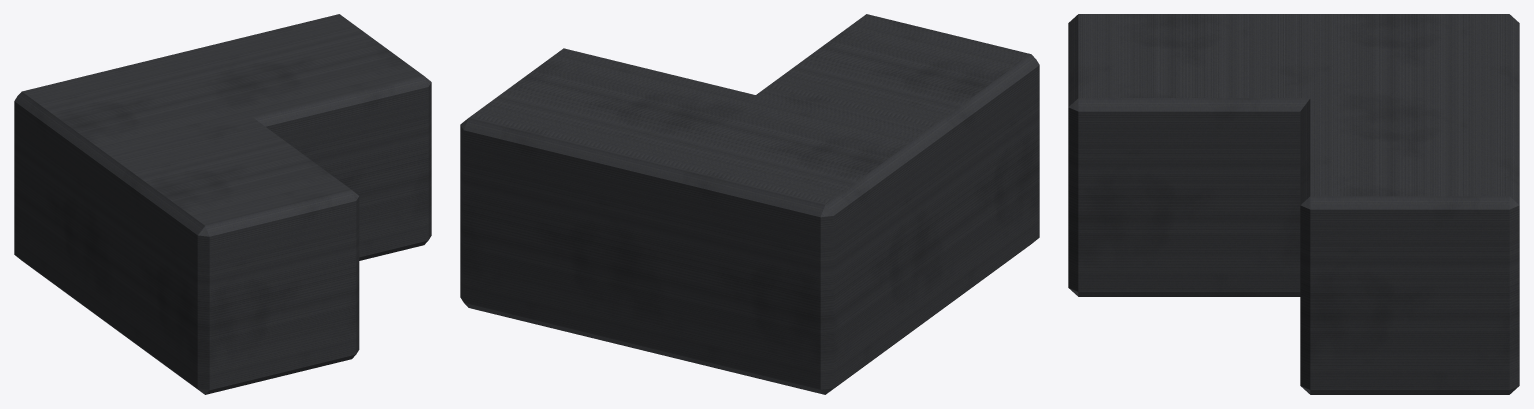
File: R4B_CornerL3_LOD1.glb
3 views of the same model, side by side, from view 1: azimuth 30°, elevation 25°; view 2: azimuth 150°, elevation 25°; view 3: azimuth 270°, elevation 25° (orthographic). The views are drawn at different scales.
Parts seen in each view (by area): view 1: R4B_CornerL3_LOD1; view 2: R4B_CornerL3_LOD1; view 3: R4B_CornerL3_LOD1.
Boxes of the visible parts, left/top/right/bottom form: R4B_CornerL3_LOD1: left=14, top=14, right=431, bottom=394; R4B_CornerL3_LOD1: left=460, top=14, right=1039, bottom=394; R4B_CornerL3_LOD1: left=1068, top=14, right=1519, bottom=394.
Size of the model in its own units: 1.07 by 0.52 by 1.07.
1 material, 1 textured.
